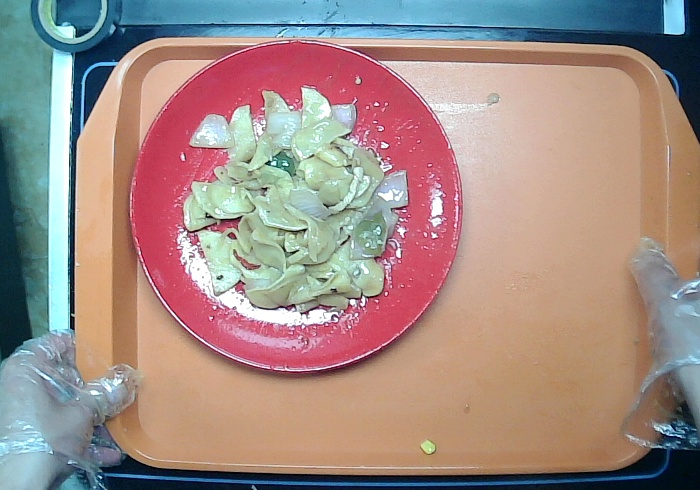HZYJPL-Hong_Se_Yuan_Pan: (127, 38, 466, 377)
